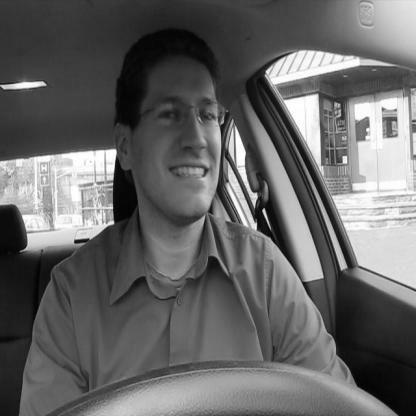no-seatbelt: (92, 21, 286, 363)
